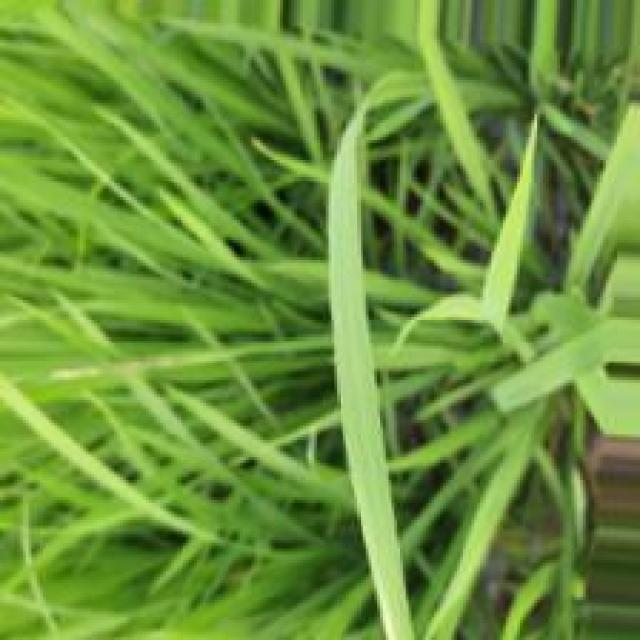HealthyLeaf: (325, 114, 419, 638)
